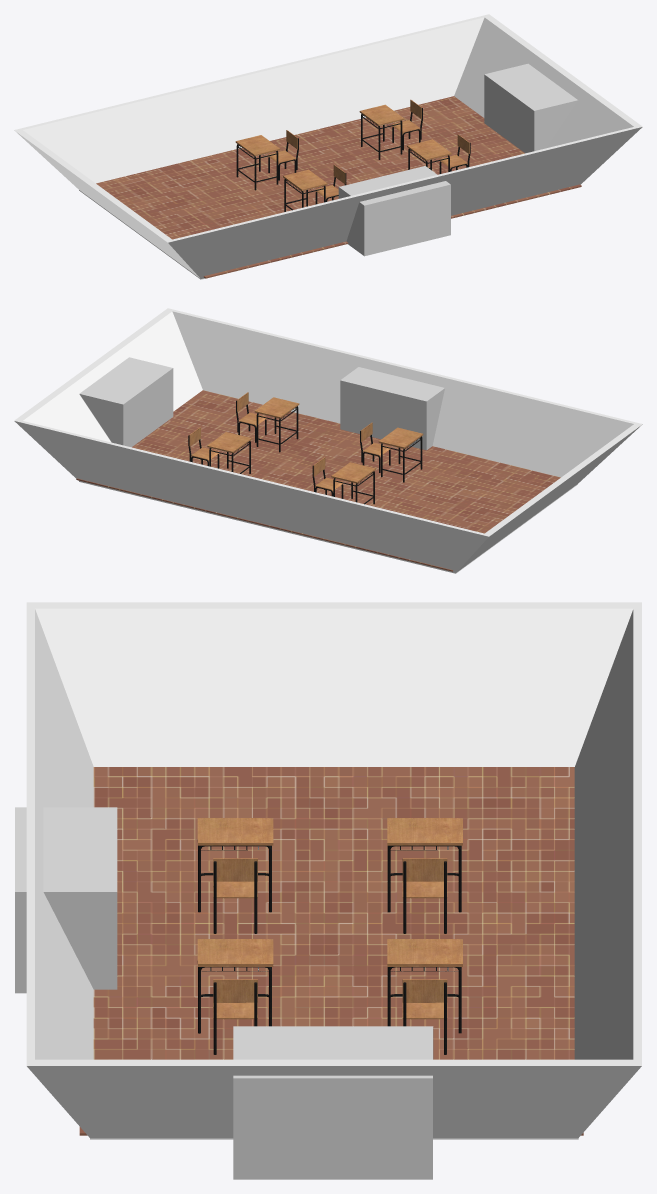
File: LeftTop.fbx
3 renders of one model, top to bottom at view 1: azimuth 30°, elevation 25°; view 2: azimuth 150°, elevation 25°; view 3: azimuth 270°, elevation 25°, orthographic. The views are drawn at different scales.
Parts seen in each view (by area): view 1: StartRoom, Piso1, porta1, porta4, Cube.002, Cube.005, Cube.001, Cube.006, Cube.003, Cube.004, Cube.007, Cube; view 2: StartRoom, Piso1, porta1, porta4, Cube.006, Cube.001, Cube.005, Cube.002, Cube, Cube.007, Cube.003, Cube.004; view 3: StartRoom, Piso1, porta4, porta1, Cube.002, Cube.005, Cube.006, Cube.001, Cube.003, Cube, Cube.004, Cube.007.
Part boxes in pixels (x1,y1,x2,y2): StartRoom: (14,14,642,279); Piso1: (96,96,581,278); porta1: (338,166,450,256); porta4: (484,63,577,153); Cube.002: (235,135,280,190); Cube.005: (359,104,404,159); Cube.001: (283,169,327,211); Cube.006: (407,139,451,171); Cube.003: (268,130,298,180); Cube.004: (392,99,422,150); Cube.007: (439,134,470,173); Cube: (315,164,346,204); StartRoom: (14,308,642,573); Piso1: (76,390,560,571); porta1: (340,367,444,450); porta4: (79,357,173,447); Cube.006: (254,397,299,452); Cube.001: (378,427,423,482); Cube.005: (207,432,251,473); Cube.002: (331,462,375,504); Cube: (360,422,390,472); Cube.007: (236,392,266,442); Cube.003: (312,457,343,498); Cube.004: (188,427,219,468); StartRoom: (26,602,641,1139); Piso1: (79,767,583,1135); porta4: (233,1026,433,1179); porta1: (15,807,117,993); Cube.002: (387,818,462,912); Cube.005: (387,939,462,1033); Cube.006: (197,939,273,1033); Cube.001: (197,818,273,912); Cube.003: (402,858,447,933); Cube: (213,858,257,933); Cube.004: (402,979,447,1054); Cube.007: (213,979,257,1054).
Size of the model in its own units: 4100 by 500 by 2343.
